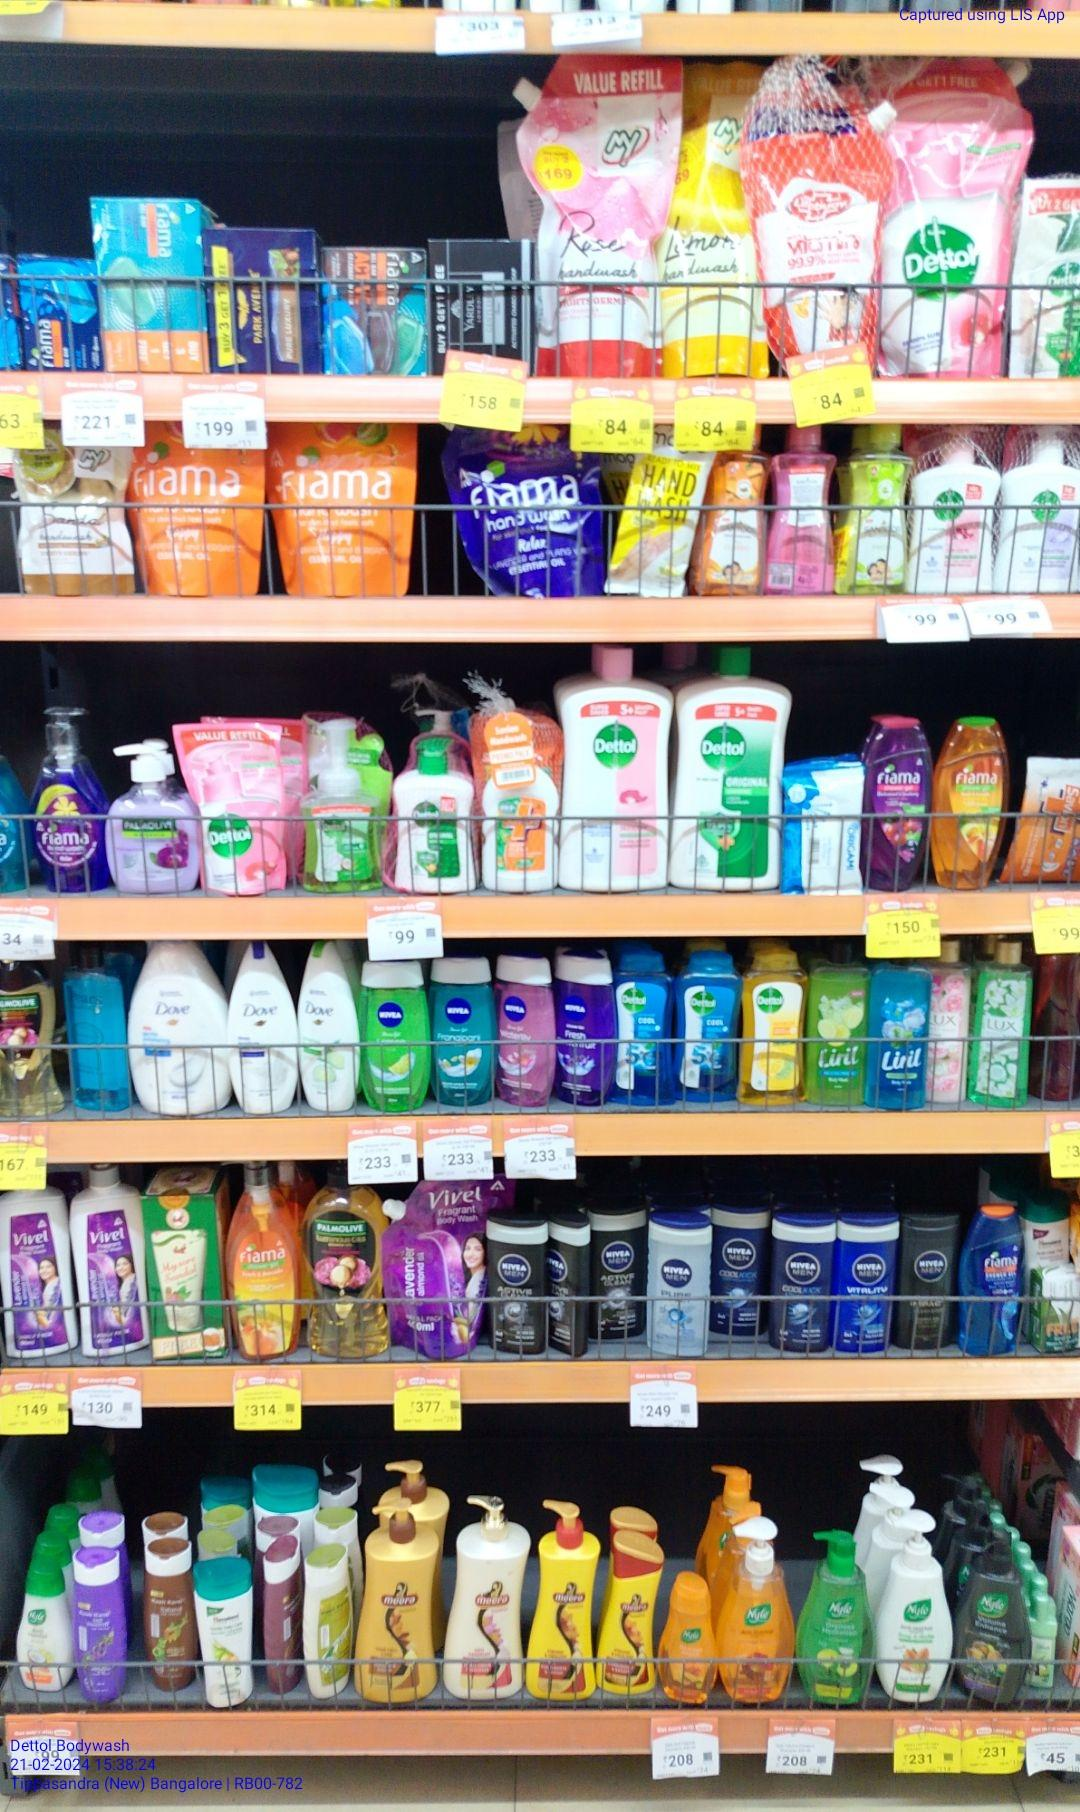Dettol_Bodywash_Cool: (672, 948, 739, 1100), (615, 948, 675, 1105)
Dettol_Bodywash_Refresh: (741, 948, 809, 1103)
Dove_Deep_Moisture_Body_Wash_250ML: (225, 941, 297, 1113)
Dove_Refreshing_Body_Wash_250ML: (359, 959, 429, 1113), (296, 939, 359, 1112)
Fiama_Shower_Gel_Peach_and_Avocado_250ML: (928, 713, 1009, 891)
Liril_Cooling_Mint_Body_Wash_250ML: (867, 959, 931, 1109)
Liril_Lime_and_Tea_Tree_Oil_Body_Wash_250ML: (809, 943, 868, 1100)
Lux_Body_Wash_Skin_Detox_Freesia_Scent_and_Alove_Vera_245ML: (972, 938, 1034, 1105)
Nivea_Shower_Gel_Frangipani_and_Oil_250ML: (429, 956, 498, 1105)
Nivea_Shower_Gel_Waterlily_and_Oil_250ML: (495, 952, 557, 1109)
Pears_Pure_Glycerin_and_Mint_Extracts_Body_Wash_250ML: (62, 942, 127, 1115)
